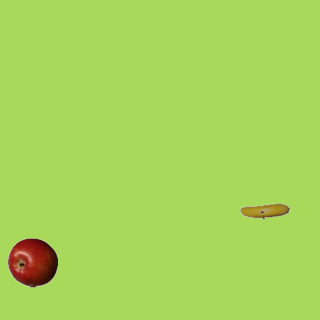Apple Braeburn: (7, 237, 57, 287)
Banana: (239, 186, 289, 236)
